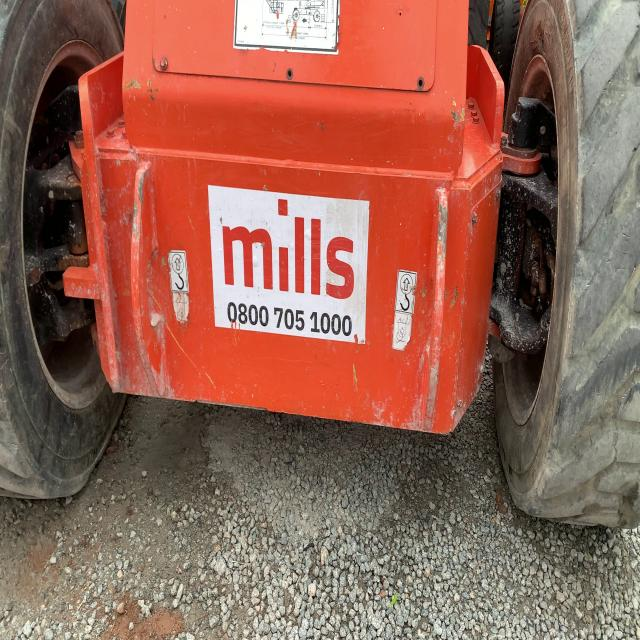Adesivos: (206, 181, 371, 347)
